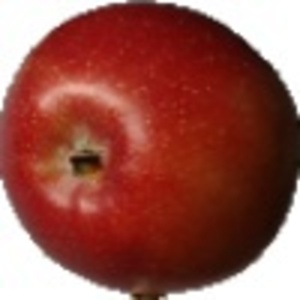maçã braeburn: (1, 1, 298, 295)
